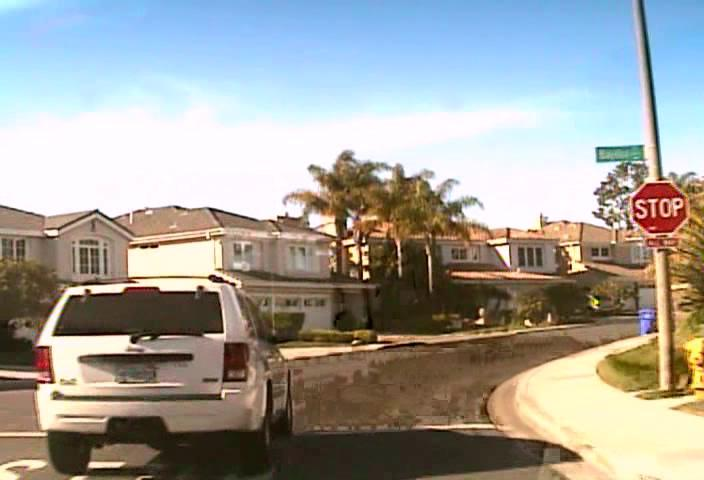stop: (630, 179, 689, 238)
